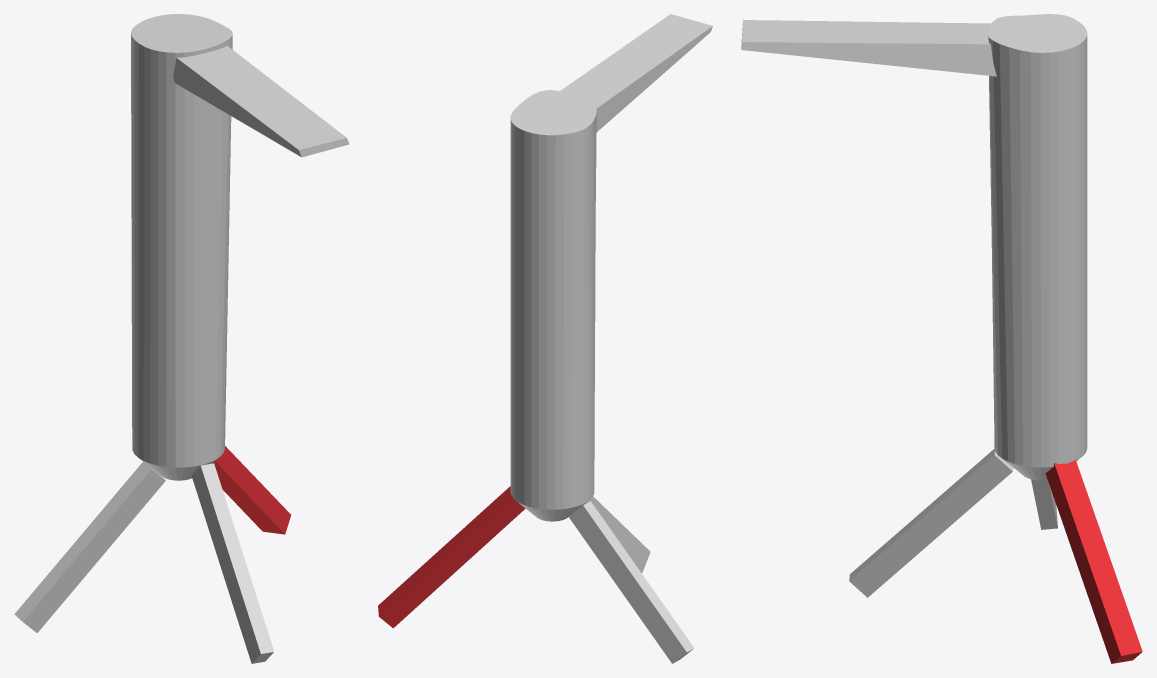
The model's file is soporte.fbx.
3 renders of one model, left to right at view 1: azimuth 30°, elevation 25°; view 2: azimuth 150°, elevation 25°; view 3: azimuth 270°, elevation 25°, orthographic. The views are drawn at different scales.
Visible parts, largest first — view 1: Cylinder, Cube.005, Cube, Cube.001, Cube.002; view 2: Cylinder, Cube.005, Cube, Cube.002, Cube.001; view 3: Cylinder, Cube.005, Cube.002, Cube.001, Cube.
Boxes of the visible parts, x1,y1,x2,y2 form: Cylinder: [131, 14, 232, 480]; Cube.005: [173, 46, 349, 157]; Cube: [14, 462, 165, 632]; Cube.001: [191, 463, 274, 663]; Cube.002: [212, 446, 291, 534]; Cylinder: [510, 90, 596, 521]; Cube.005: [560, 14, 712, 131]; Cube: [569, 501, 694, 663]; Cube.002: [378, 486, 525, 628]; Cube.001: [584, 496, 650, 572]; Cylinder: [988, 14, 1087, 480]; Cube.005: [741, 20, 996, 76]; Cube.002: [1045, 459, 1142, 663]; Cube.001: [849, 449, 1013, 597]; Cube: [1031, 479, 1057, 529].
Size of the model in its own units: 84.64 by 149 by 95.14.
